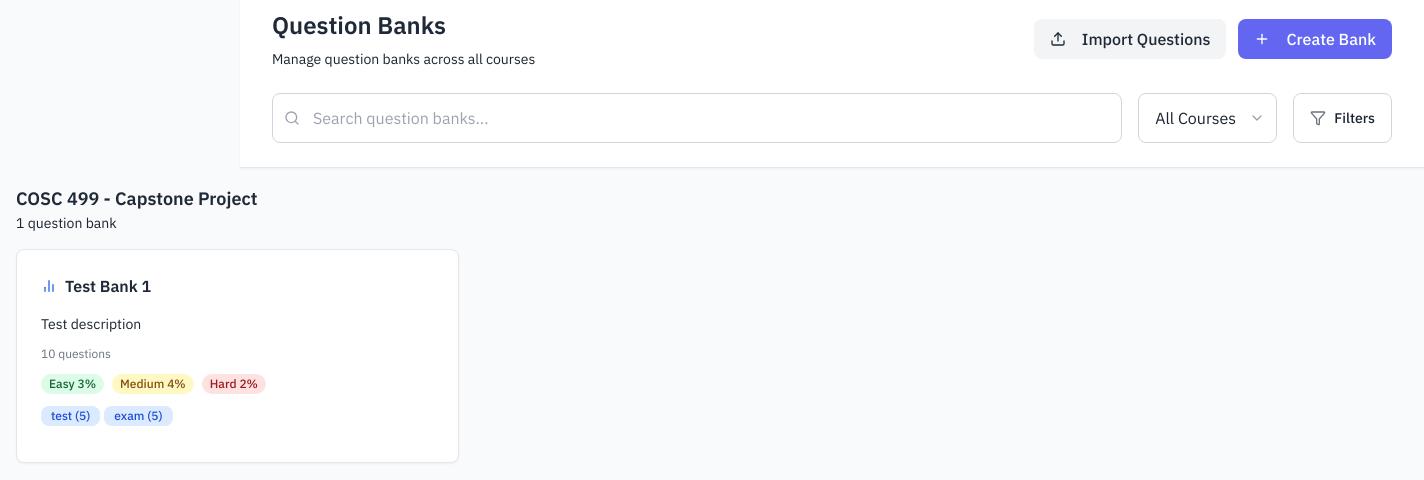
it: QuestionBank › filters question banks by search query
Expected: the text "Test Bank 1" is shown, [65, 274, 151, 298]
Type "nonexistent" into the field with placeholder "Search question banks..." at (697, 118), box [272, 93, 1122, 143]
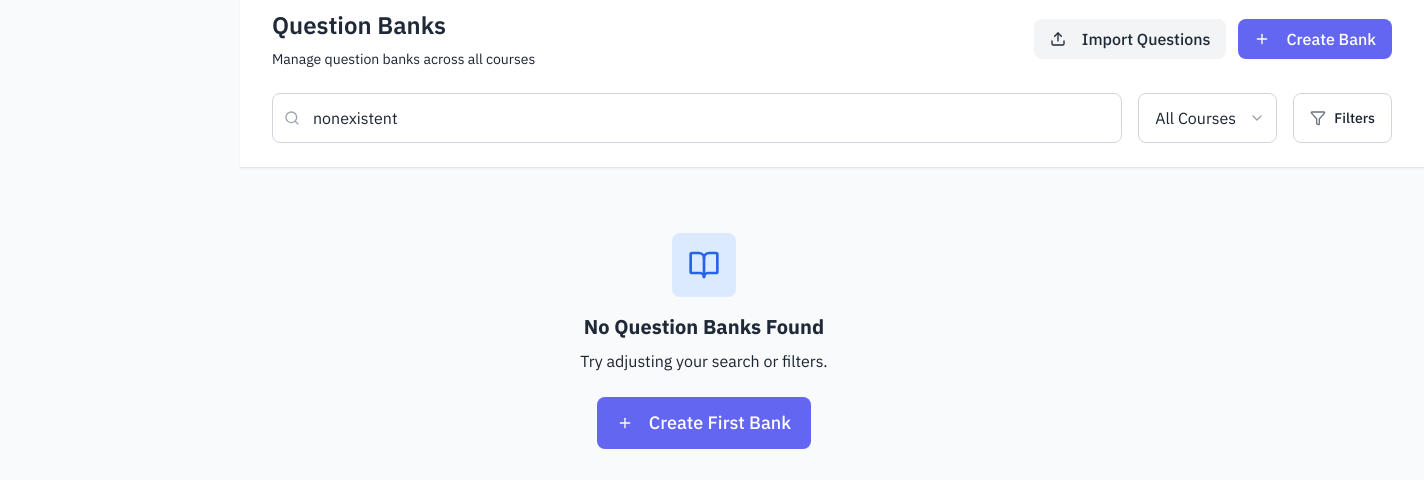
Now the text "Test Bank 1" is gone
